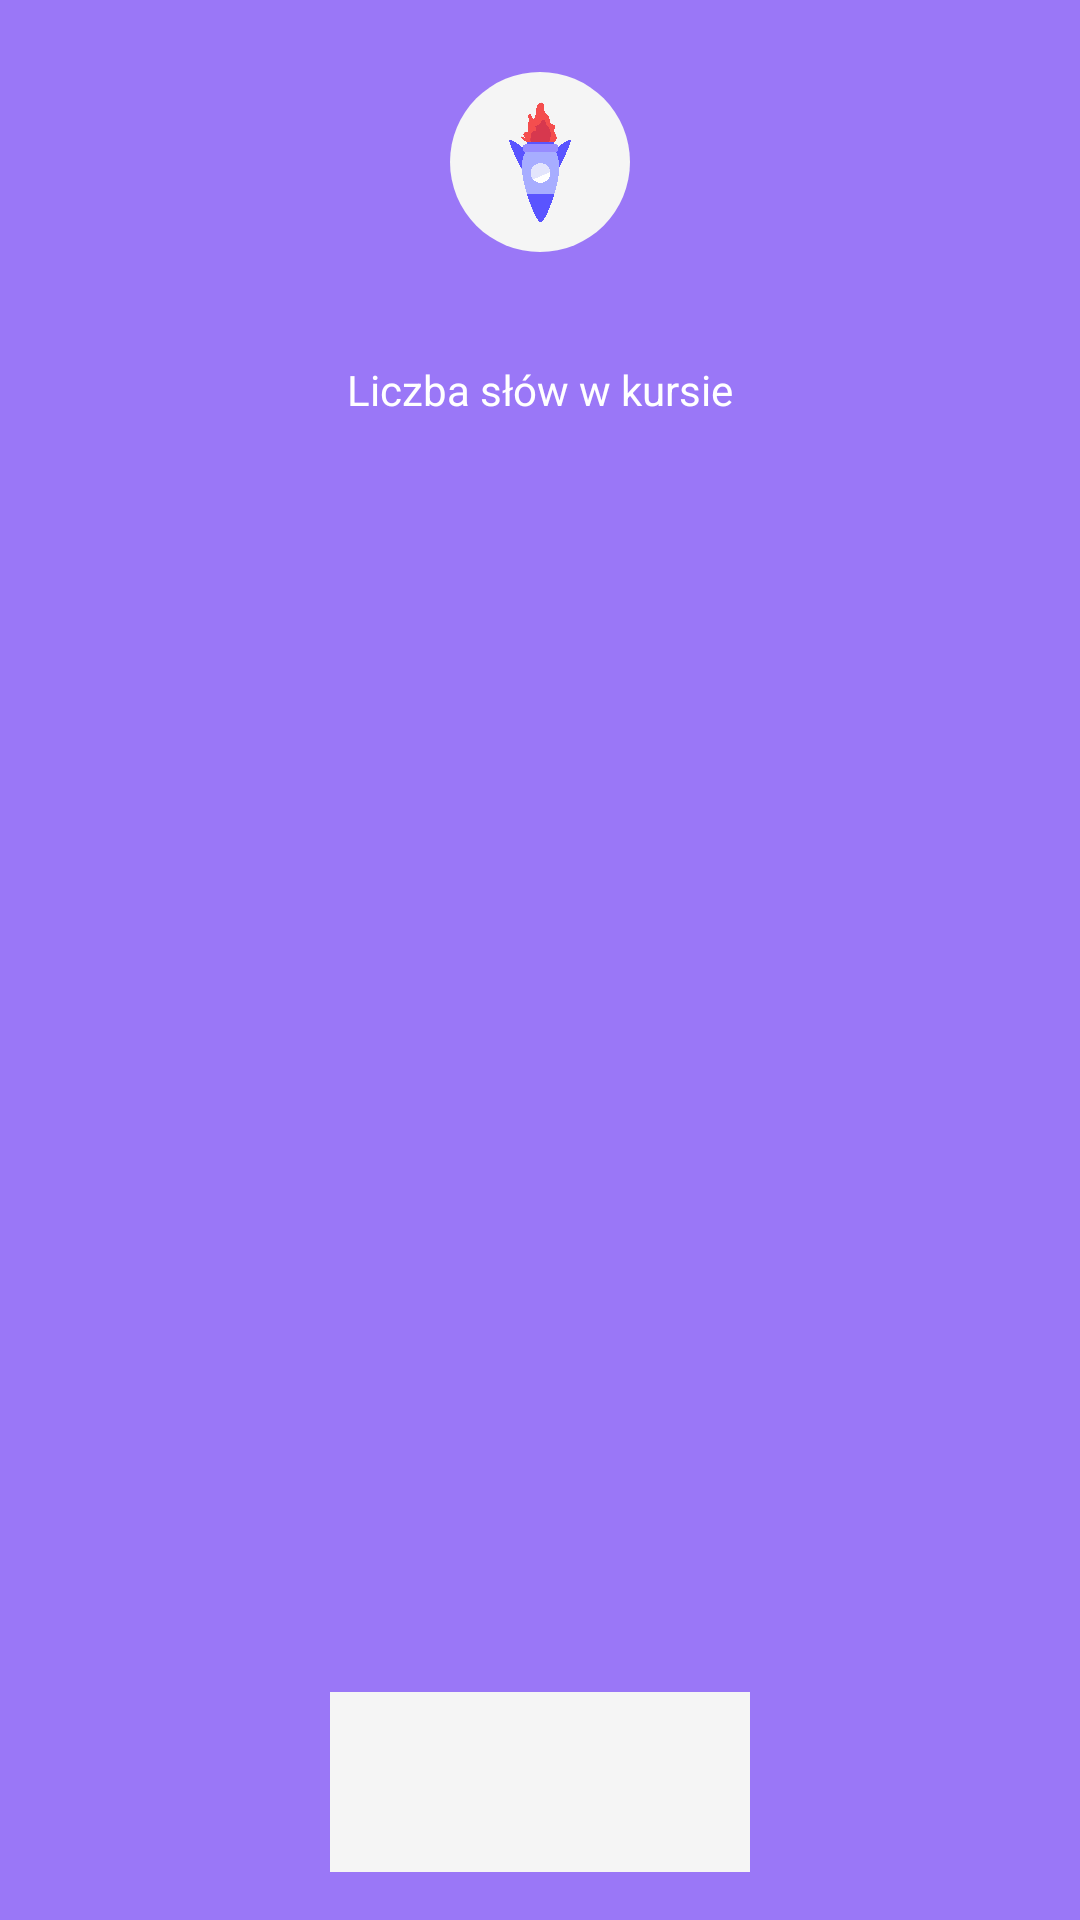

Screen size 1080*1920. Icon name, then its box in pixels as (x1, y1, x2, y2):
rakieta: (450, 72, 630, 252)
